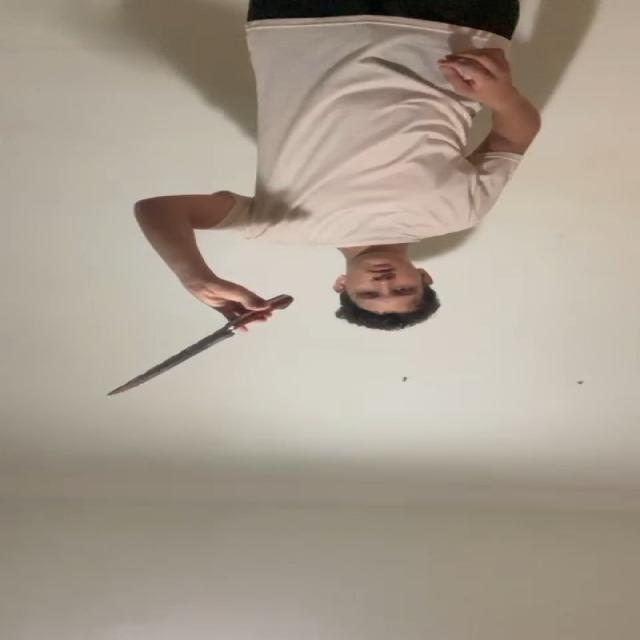knife: (109, 328, 228, 396)
